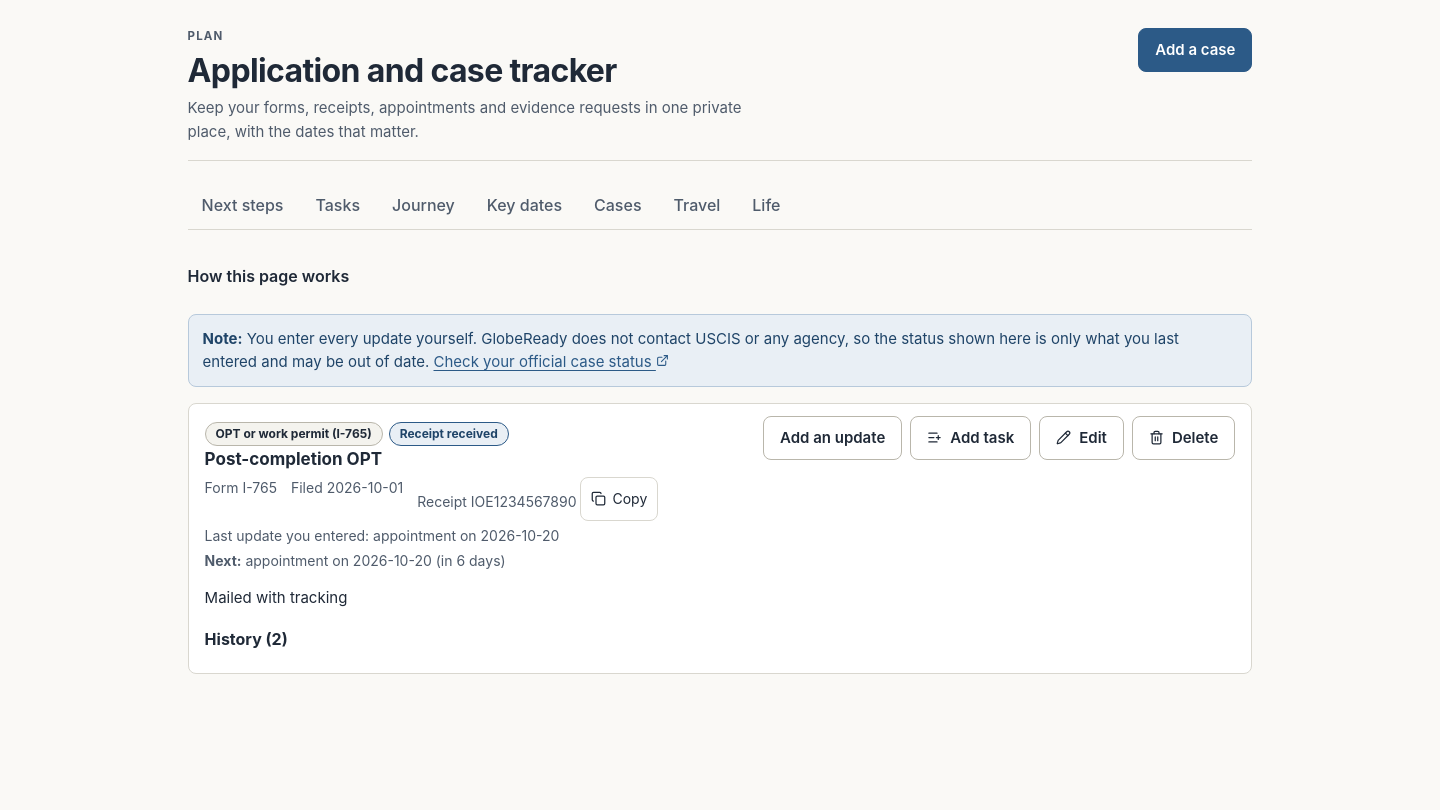
Test: CasesPage › edits a case without losing its history
The image size is (1440, 810).
Click the button with aria-label "Edit Post-completion OPT".
click(1082, 438)  # box x1=1039 y1=416 x2=1124 y2=460
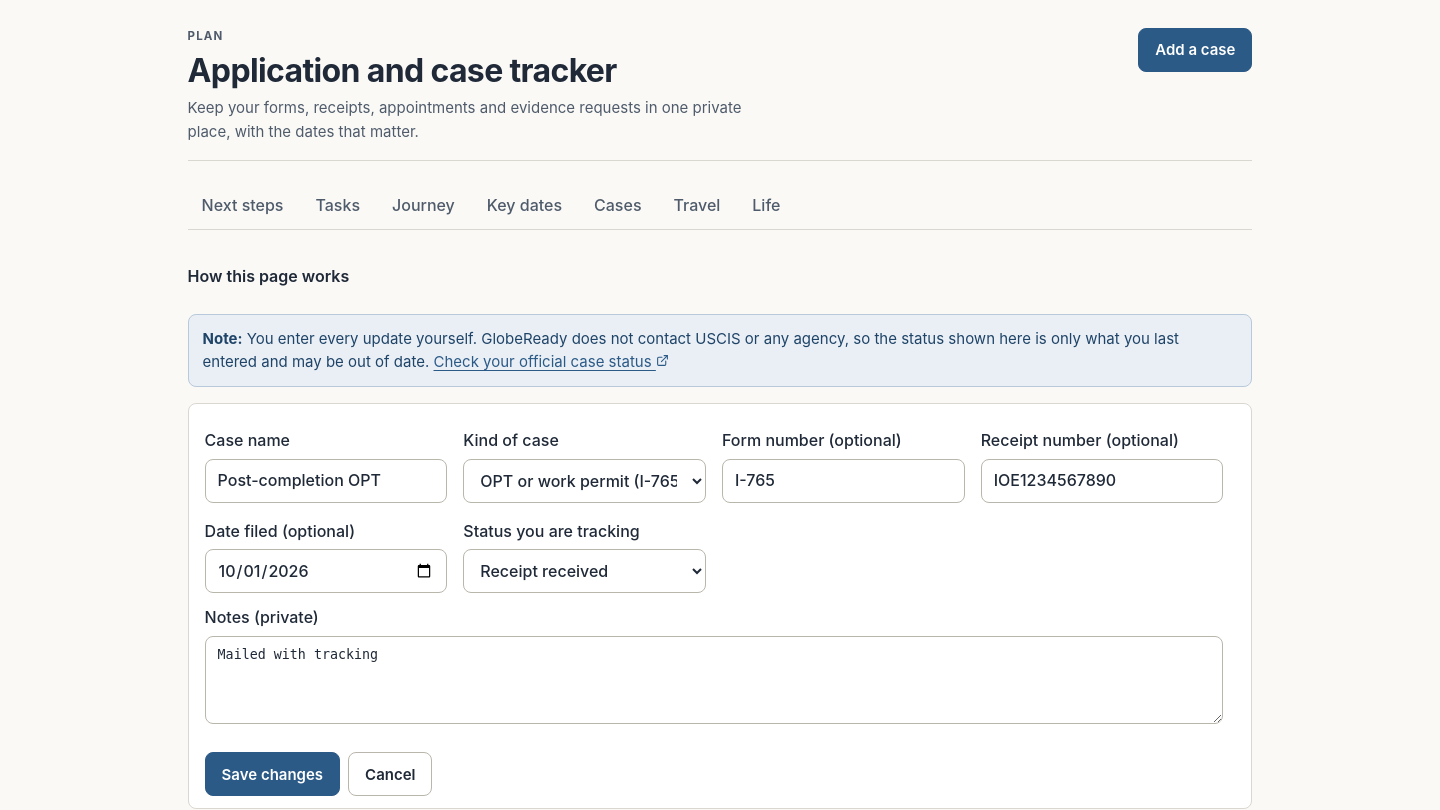
Type "OPT (renamed)" into the field labelled "Case name".
click(326, 480); type("OPT (renamed)")  # box x1=205 y1=458 x2=447 y2=502
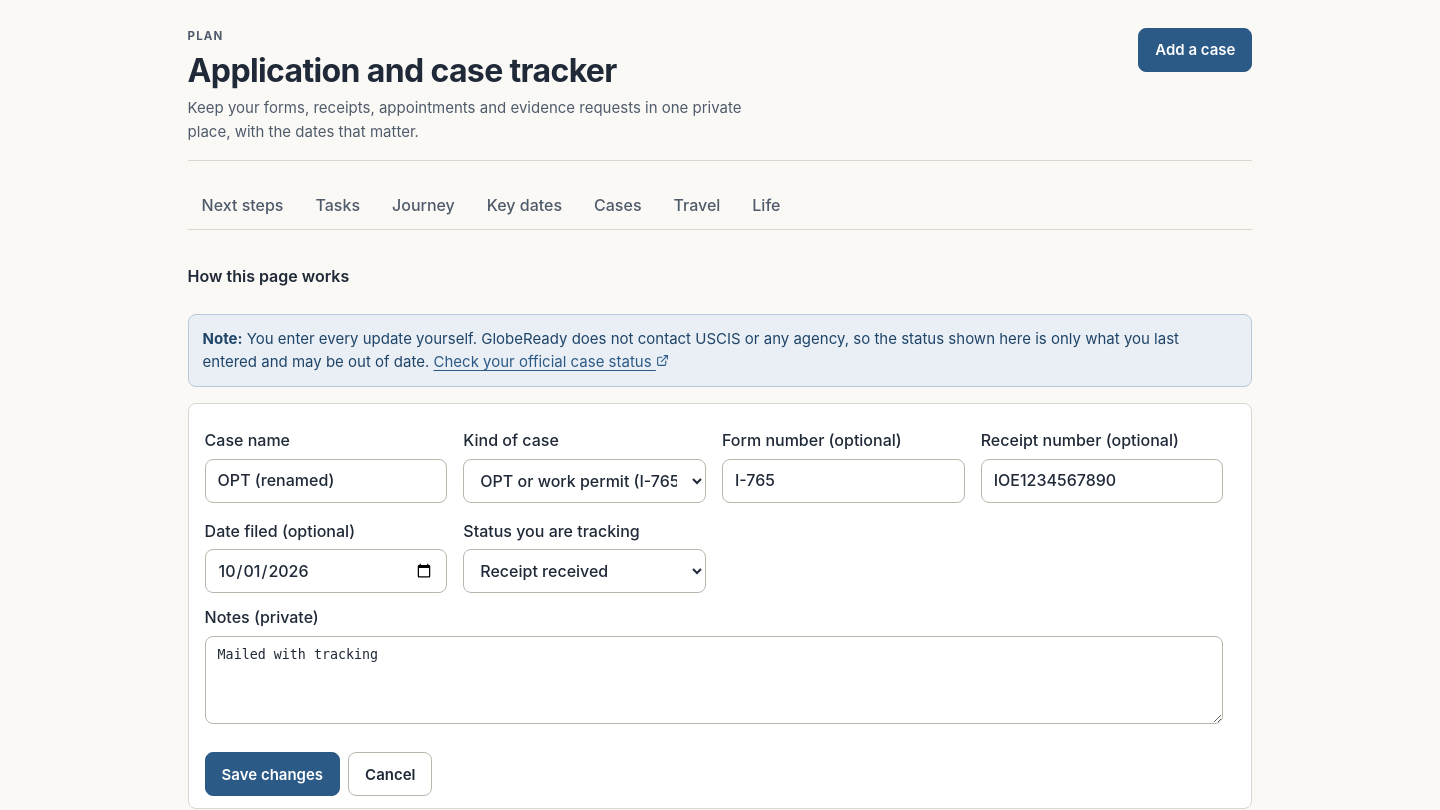
Click the button "Save changes".
click(272, 774)  # box x1=205 y1=752 x2=340 y2=796
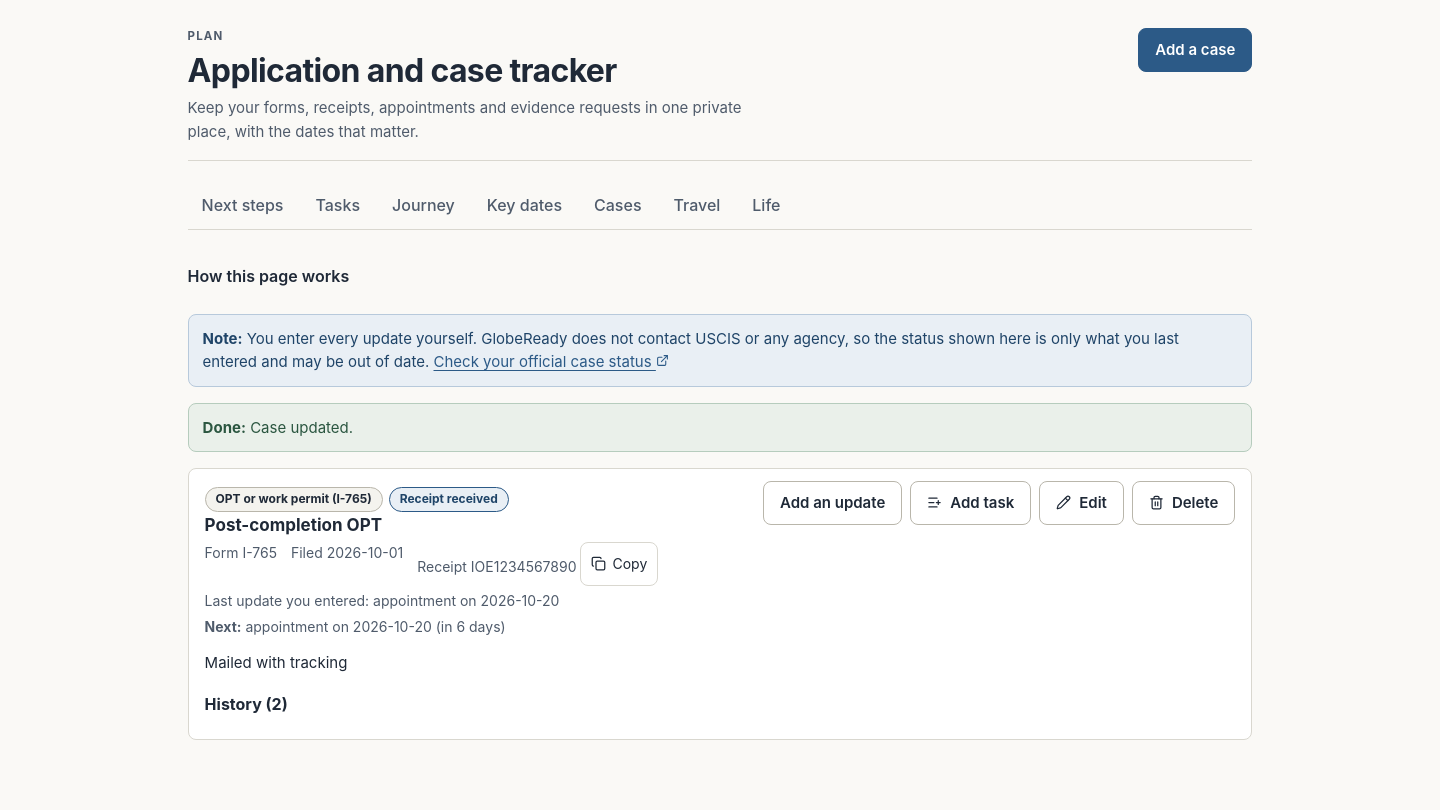
Expected: the text "Case updated." is shown, x1=250 y1=418 x2=353 y2=437
